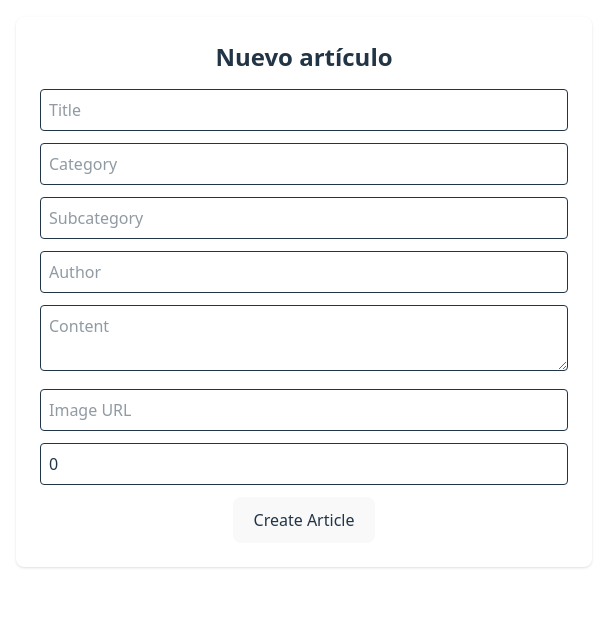
it: does not allow saving when required fields are empty
Click without filling out fields
Click the button "Create Article".
click(304, 520)  # box x1=233 y1=497 x2=375 y2=543
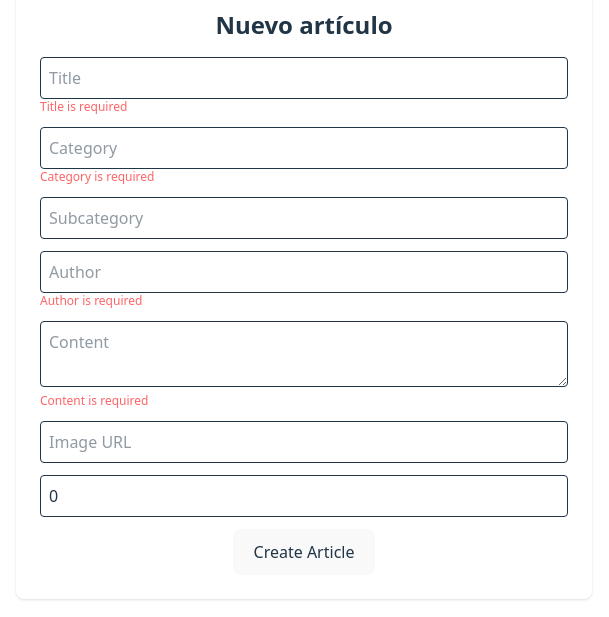
Result: the text "Title is required" is shown at x1=40 y1=98 x2=127 y2=115
Result: the text "Category is required" is shown at x1=40 y1=168 x2=154 y2=185
Result: the text "Author is required" is shown at x1=40 y1=292 x2=142 y2=309
